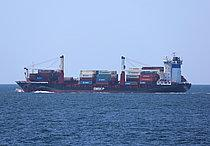Ship: (13, 47, 198, 99)
